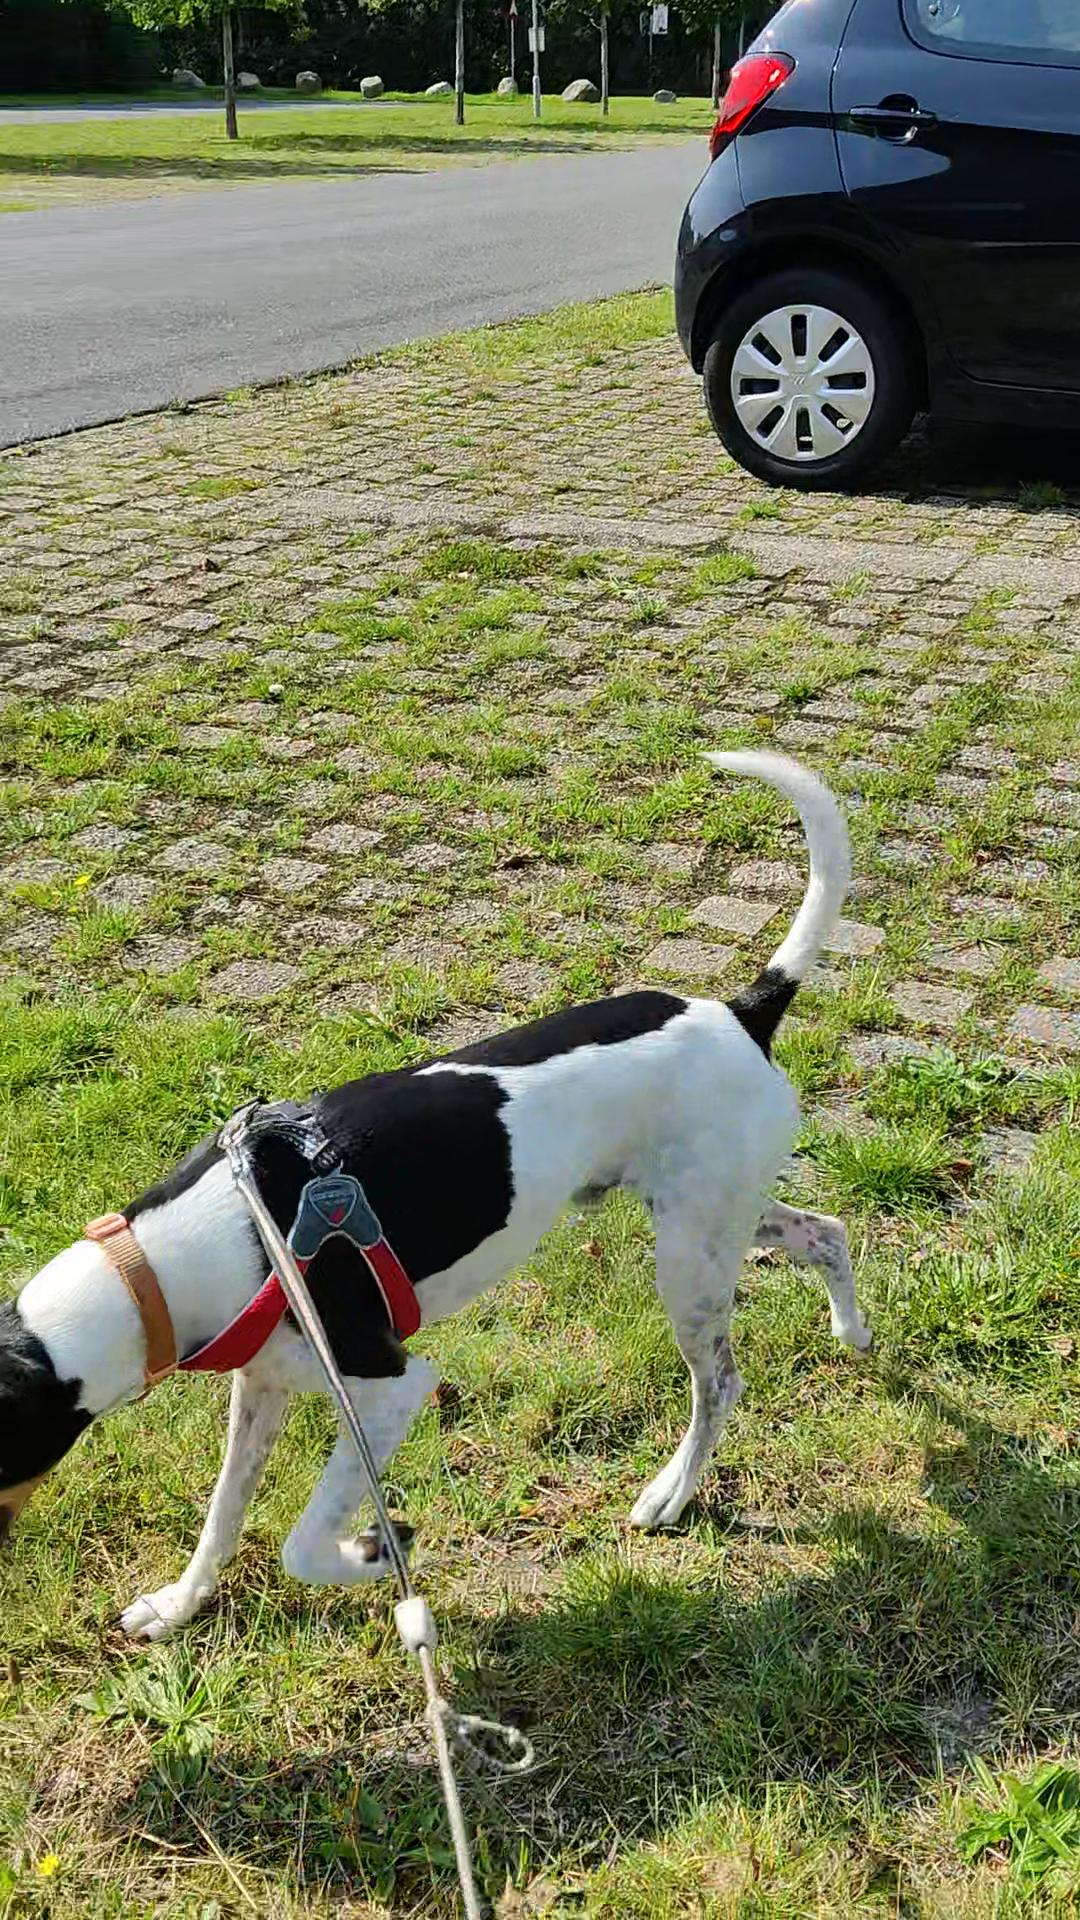Dog: (0, 741, 887, 1646)
